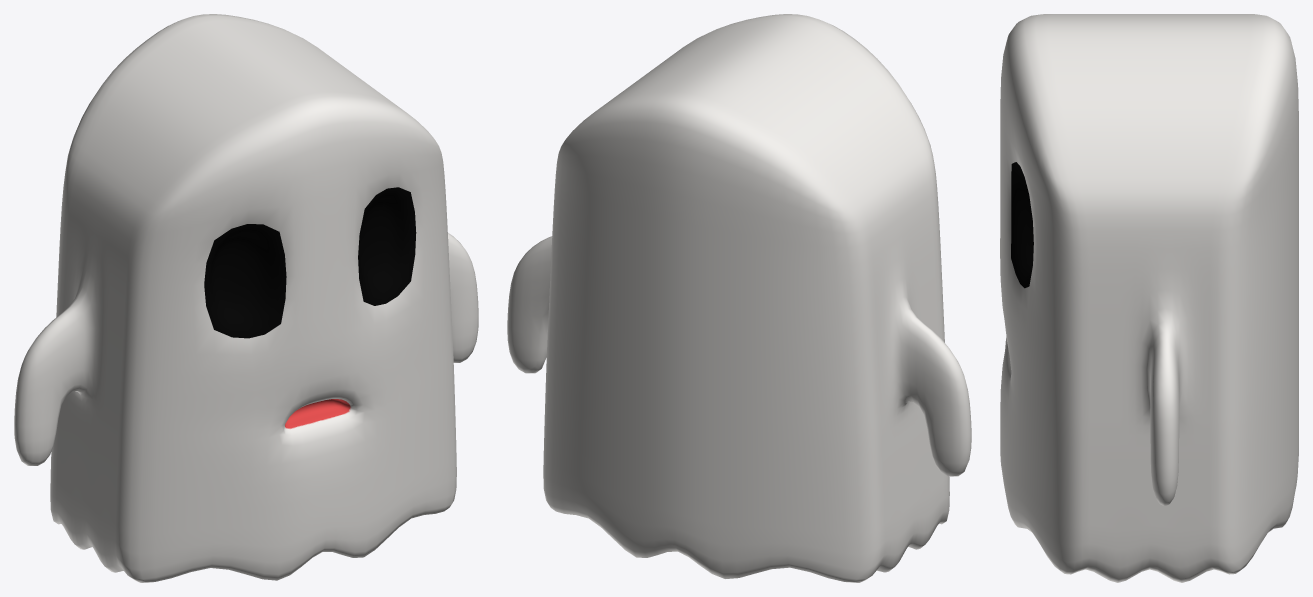
File: Ghost.fbx
3 views of the same model, side by side, from view 1: azimuth 30°, elevation 25°; view 2: azimuth 150°, elevation 25°; view 3: azimuth 270°, elevation 25° (orthographic). The views are drawn at different scales.
Visible parts, largest first — view 1: Ghost; view 2: Ghost; view 3: Ghost.
Boxes of the visible parts, x1=… form: Ghost: x1=14, y1=14, x2=478, y2=582; Ghost: x1=507, y1=14, x2=971, y2=582; Ghost: x1=1000, y1=14, x2=1298, y2=582.
Bounding box in the file's own units: 1.35 × 1.29 × 0.7342.
